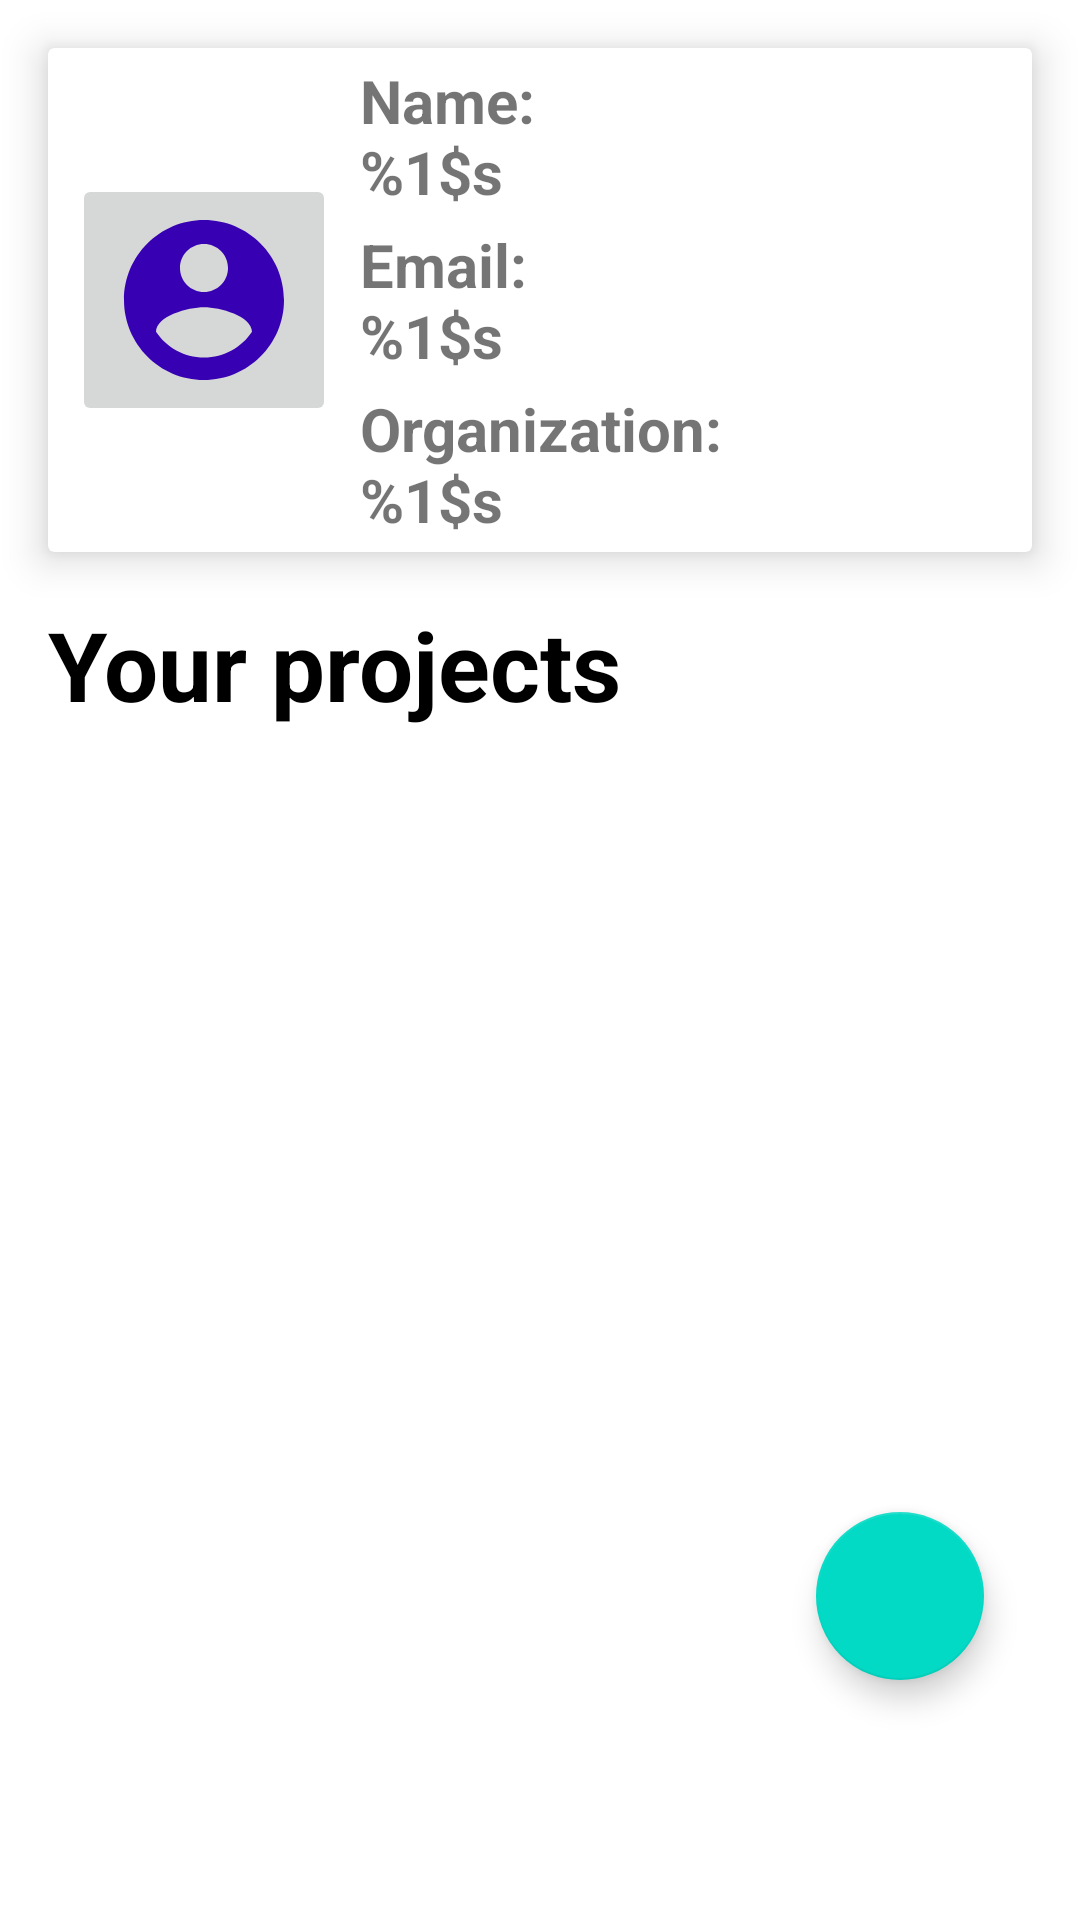

Icon click points for this 1080 x 1920 phone screenshot, format (x,y):
Profile: (204,300)
